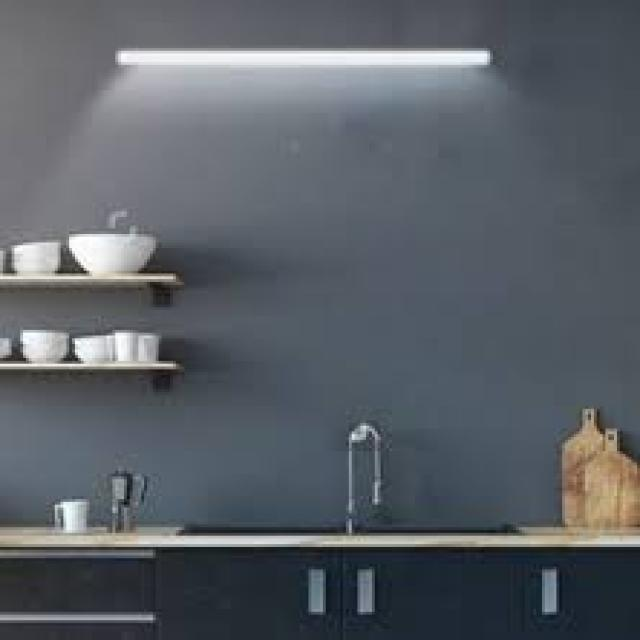tubelight_on: (113, 41, 496, 74)
